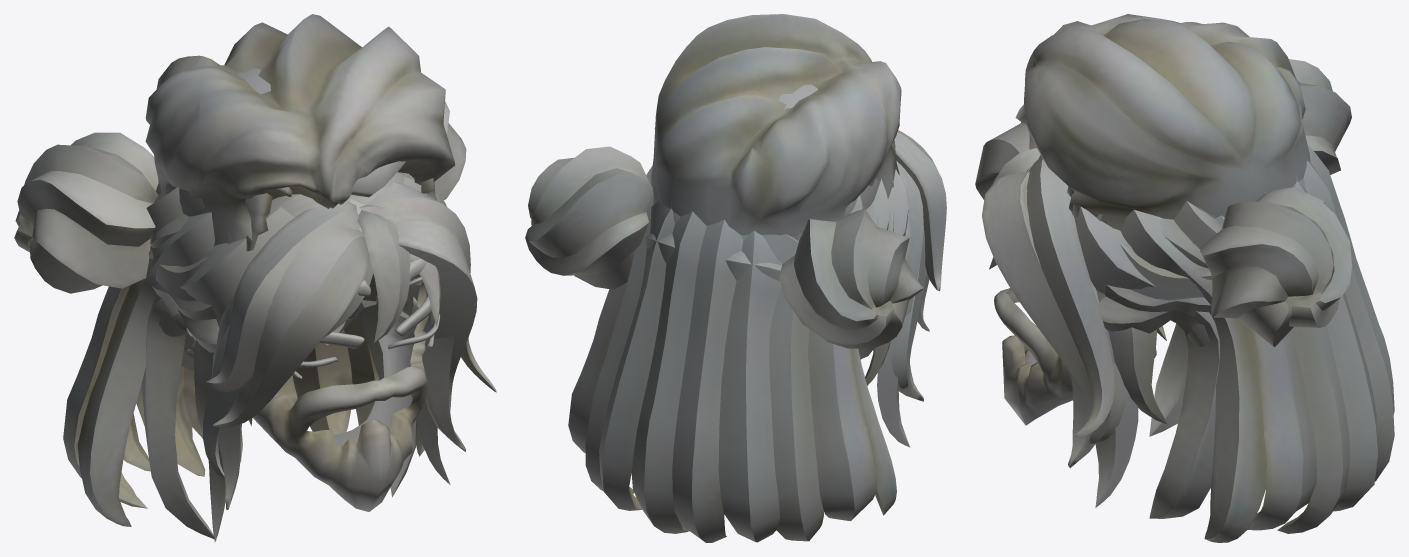
Rendered from coiffures.glb.
3 views of the same model, side by side, from view 1: azimuth 30°, elevation 25°; view 2: azimuth 150°, elevation 25°; view 3: azimuth 270°, elevation 25° (orthographic). The views are drawn at different scales.
Parts seen in each view (by area): view 1: Hair_Long, Hair_SimpleParted, Hair_Buns, Hair_Beard, Hair_Buzzed, Eyebrows_Female; view 2: Hair_Long, Hair_SimpleParted, Hair_Buns, Hair_Buzzed; view 3: Hair_Long, Hair_SimpleParted, Hair_Buns, Hair_Beard.
Boxes of the visible parts, x1,y1,x2,y2 form: Hair_Long: (63, 173, 496, 539); Hair_SimpleParted: (145, 14, 455, 244); Hair_Buns: (14, 101, 466, 541); Hair_Beard: (253, 279, 428, 511); Hair_Buzzed: (161, 68, 436, 251); Eyebrows_Female: (293, 295, 440, 378); Hair_Long: (568, 130, 946, 542); Hair_SimpleParted: (651, 14, 901, 236); Hair_Buns: (525, 146, 923, 447); Hair_Buzzed: (653, 84, 899, 240); Hair_Long: (975, 122, 1394, 542); Hair_SimpleParted: (1024, 14, 1310, 230); Hair_Buns: (989, 59, 1351, 507); Hair_Beard: (994, 288, 1156, 425).
Size of the model in its own units: 0.3015 by 0.3389 by 0.2704.
2 materials, 2 textured.
